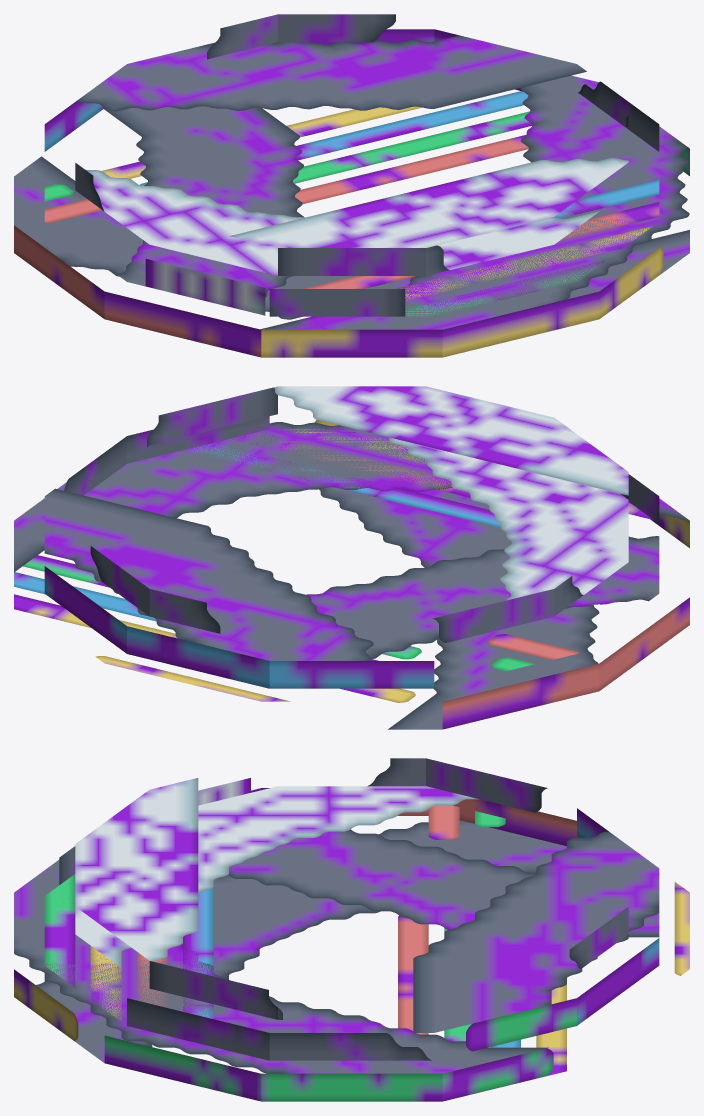
The model's file is BigJump.obj.
3 renders of one model, top to bottom at view 1: azimuth 30°, elevation 25°; view 2: azimuth 150°, elevation 25°; view 3: azimuth 270°, elevation 25°, orthographic.
Visible parts, largest first — view 1: cylinder; view 2: cylinder; view 3: cylinder.
Part boxes in pixels (box(x1,y1,x2,y2)): cylinder: box(14, 14, 689, 357); cylinder: box(14, 386, 689, 729); cylinder: box(14, 758, 689, 1101).
Bounding box in the file's own units: 2.75 × 0.375 × 2.75.
